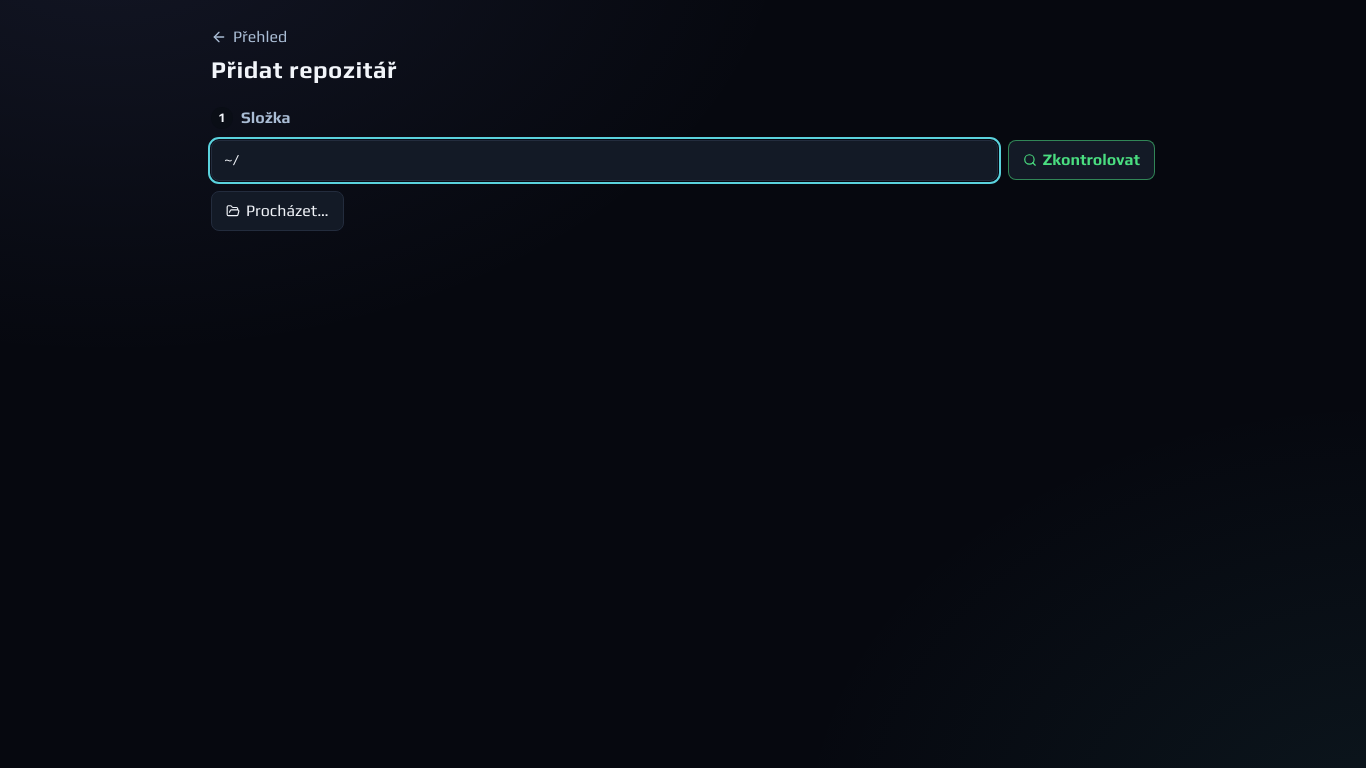
ReposAddView › asks factory to merge its own pull requests
Step 1. Replace the text in the dropdown with test id "add-path" with "/w/repo" → (604, 160), box [211,140,998,180]
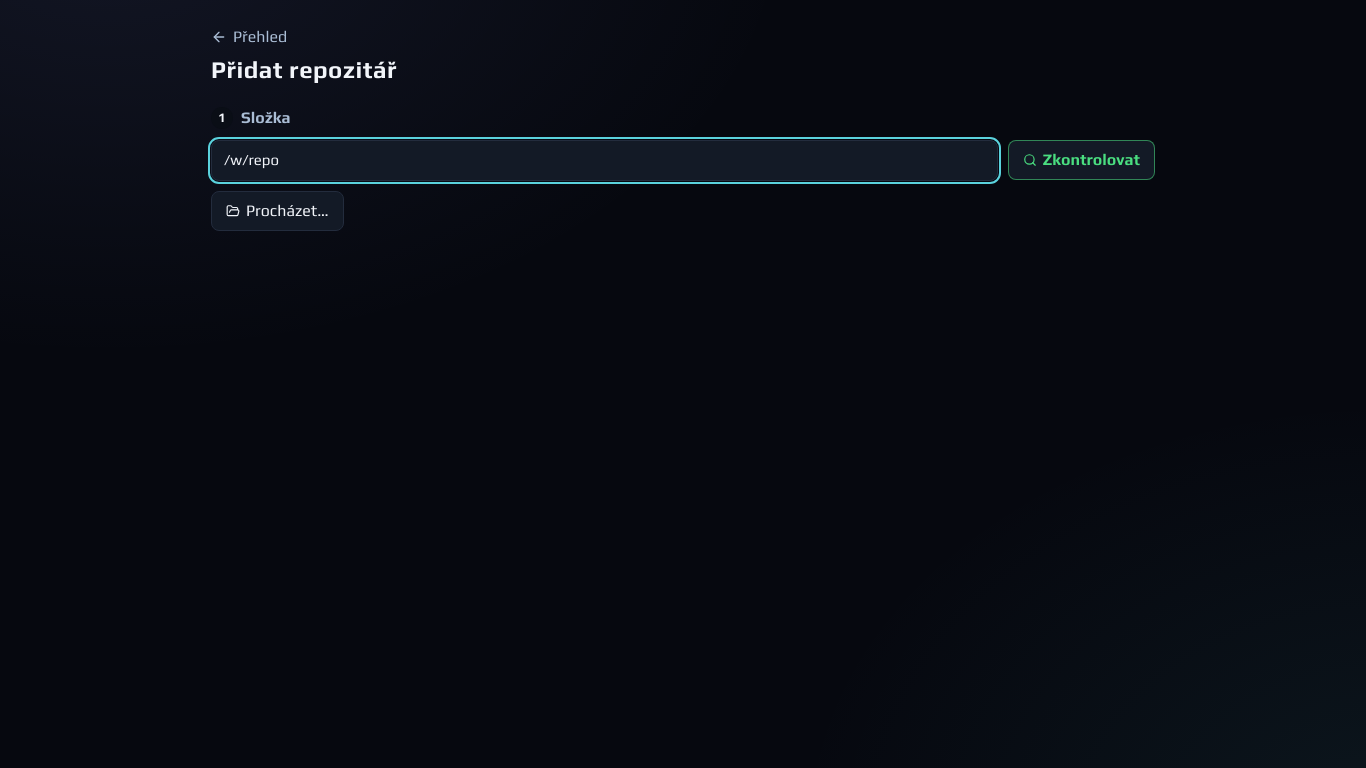
Step 2. Click the button with test id "add-inspect" → (1081, 160), box [1008,140,1155,180]
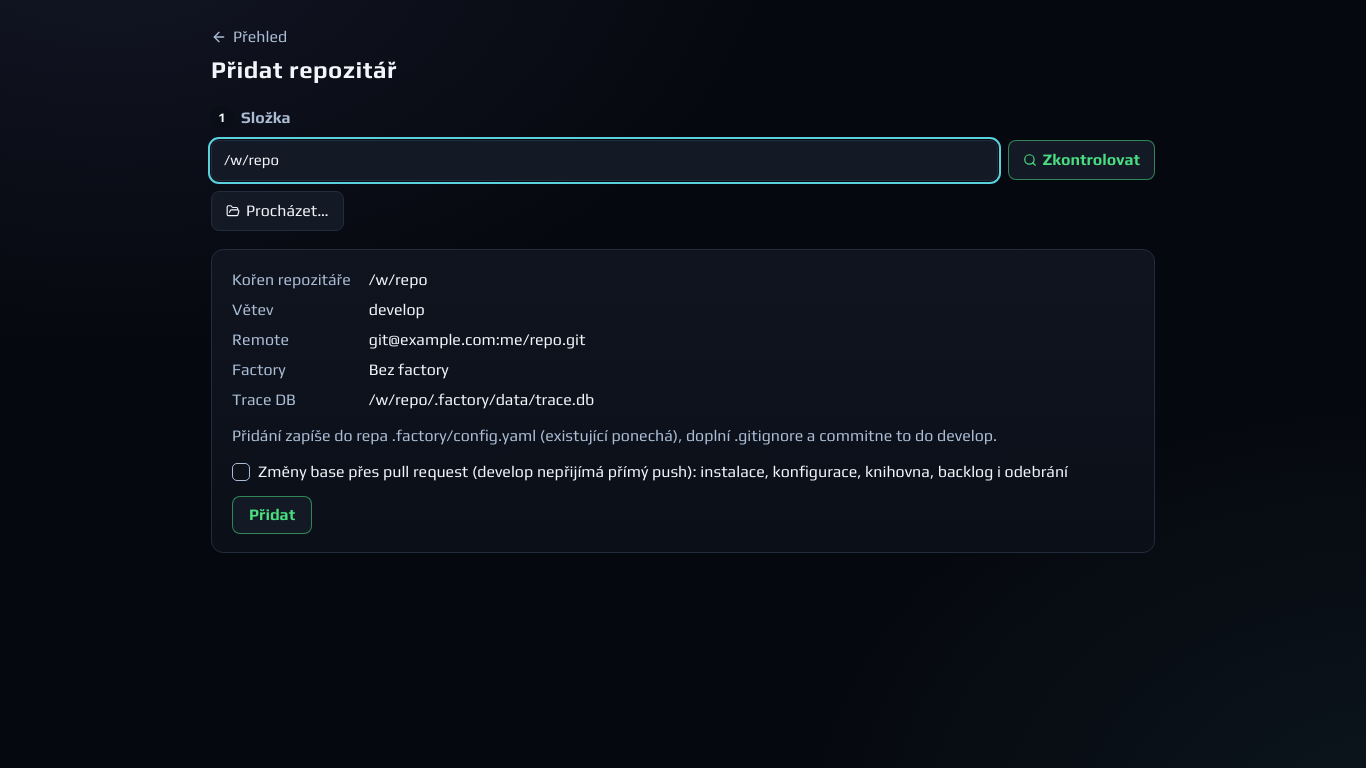
Step 3. Click the checkbox → (241, 472), box [232,462,250,480]
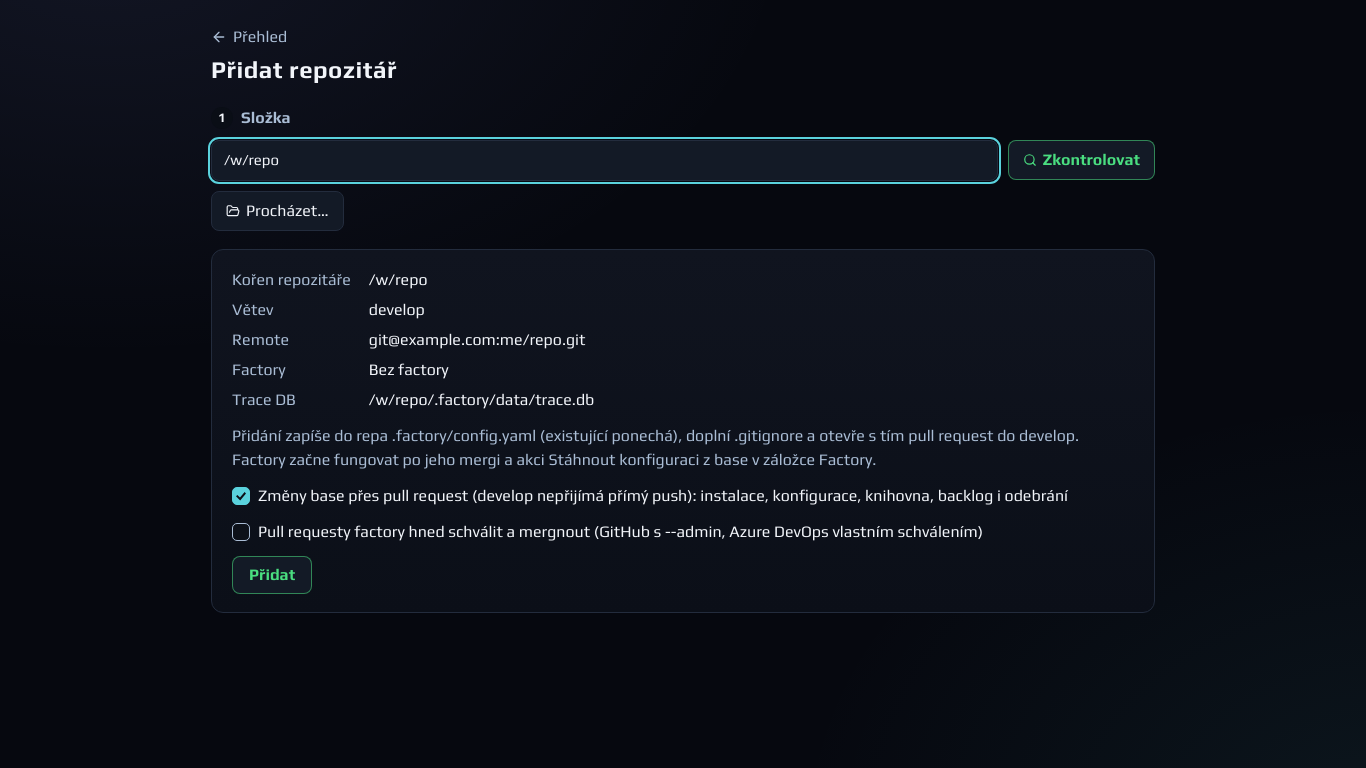
Step 4. Click the 2nd checkbox → (241, 532), box [232,522,250,540]
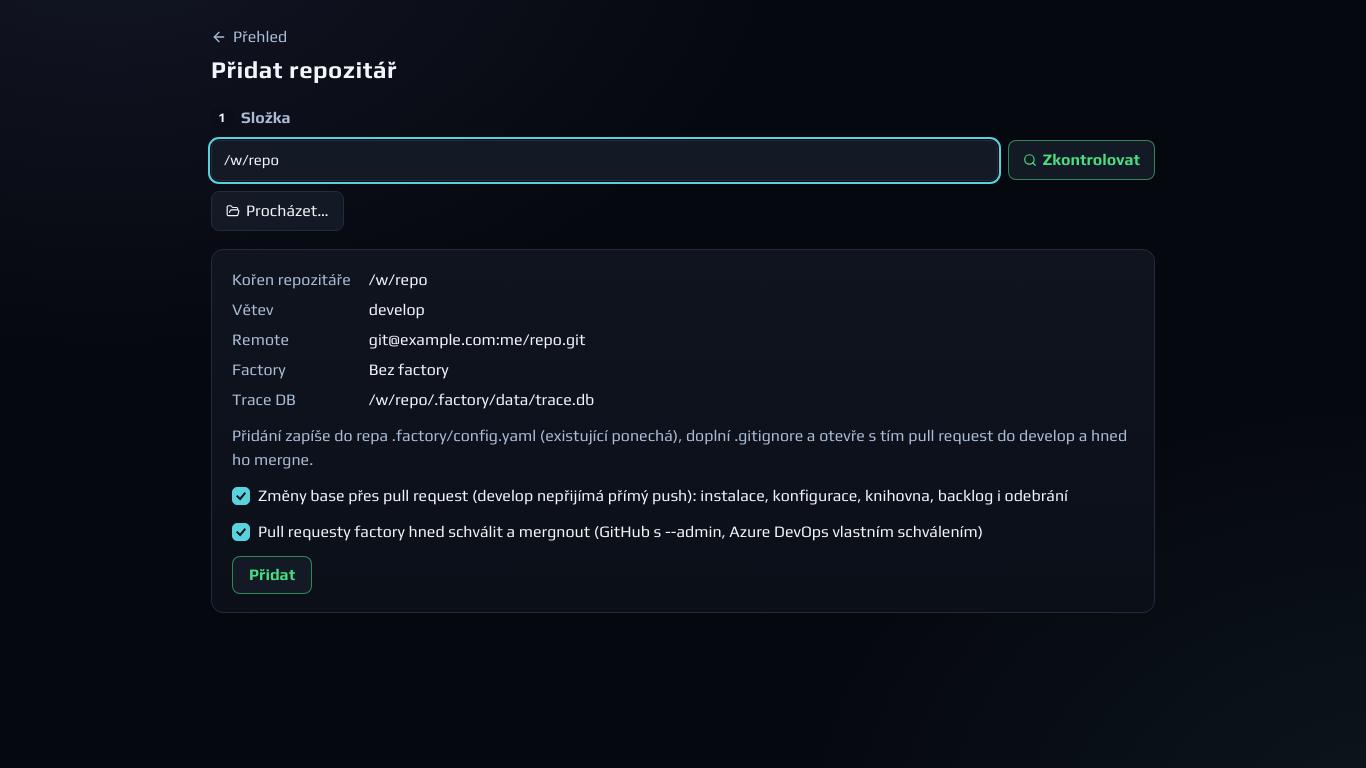
Check: the text with test id "inspect-install-note" shows "a hned ho mergne", box [232,426,1127,468]
Step 5. Click the button with test id "inspect-add" → (272, 574), box [232,556,312,594]
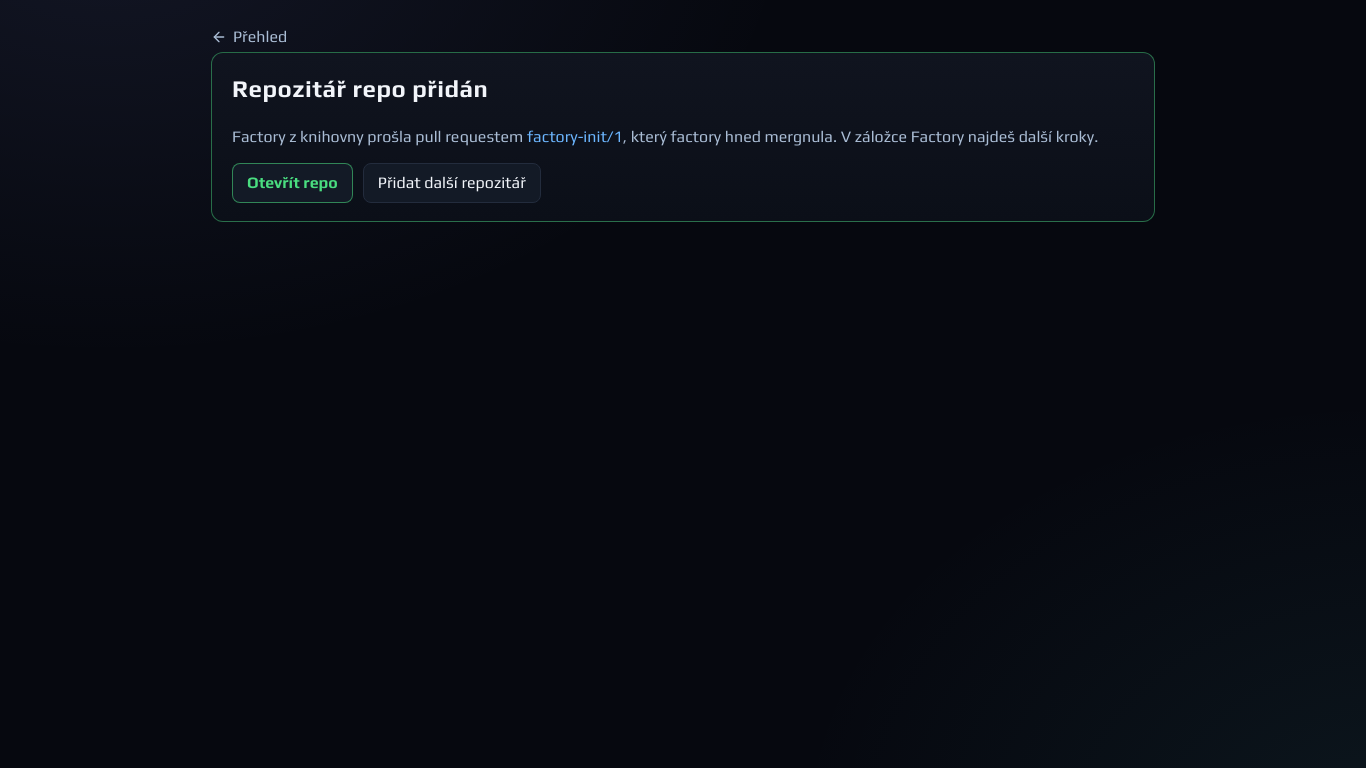
Check: the element with test id "repo-added-install" shows "hned mergnula", box [623,127,837,146]
